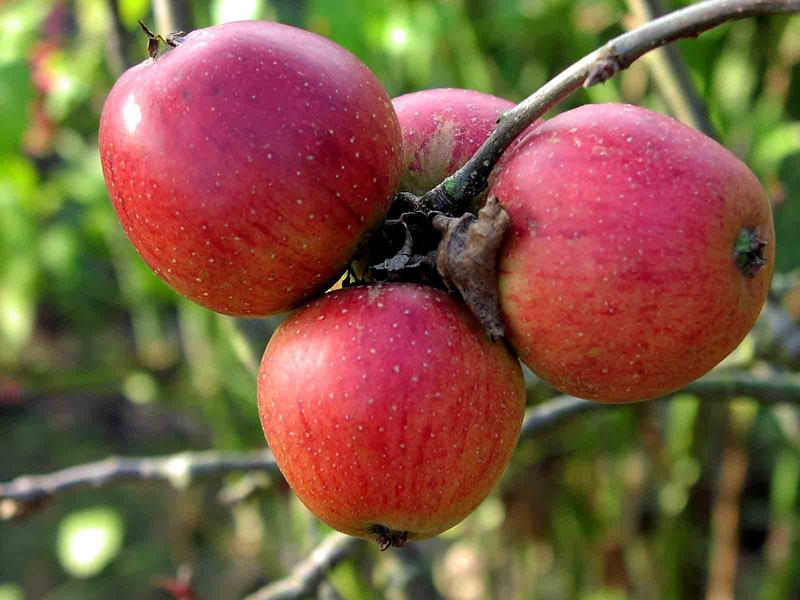apple: (82, 12, 418, 309)
